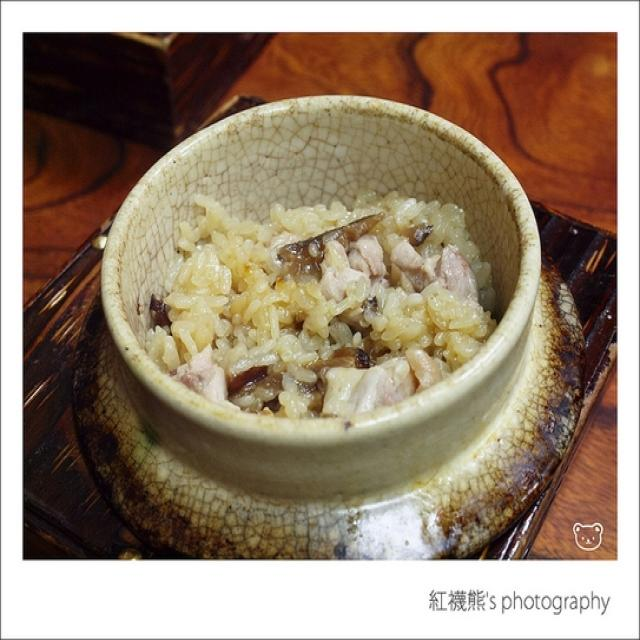鸡蛋料理: (0, 64, 640, 598)
